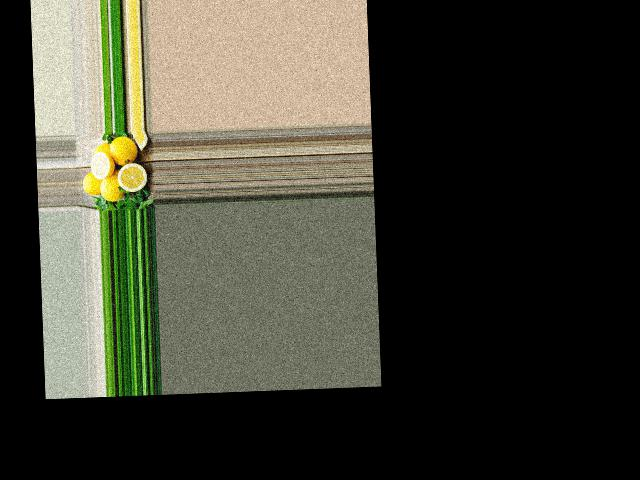lemon: (92, 141, 112, 158)
